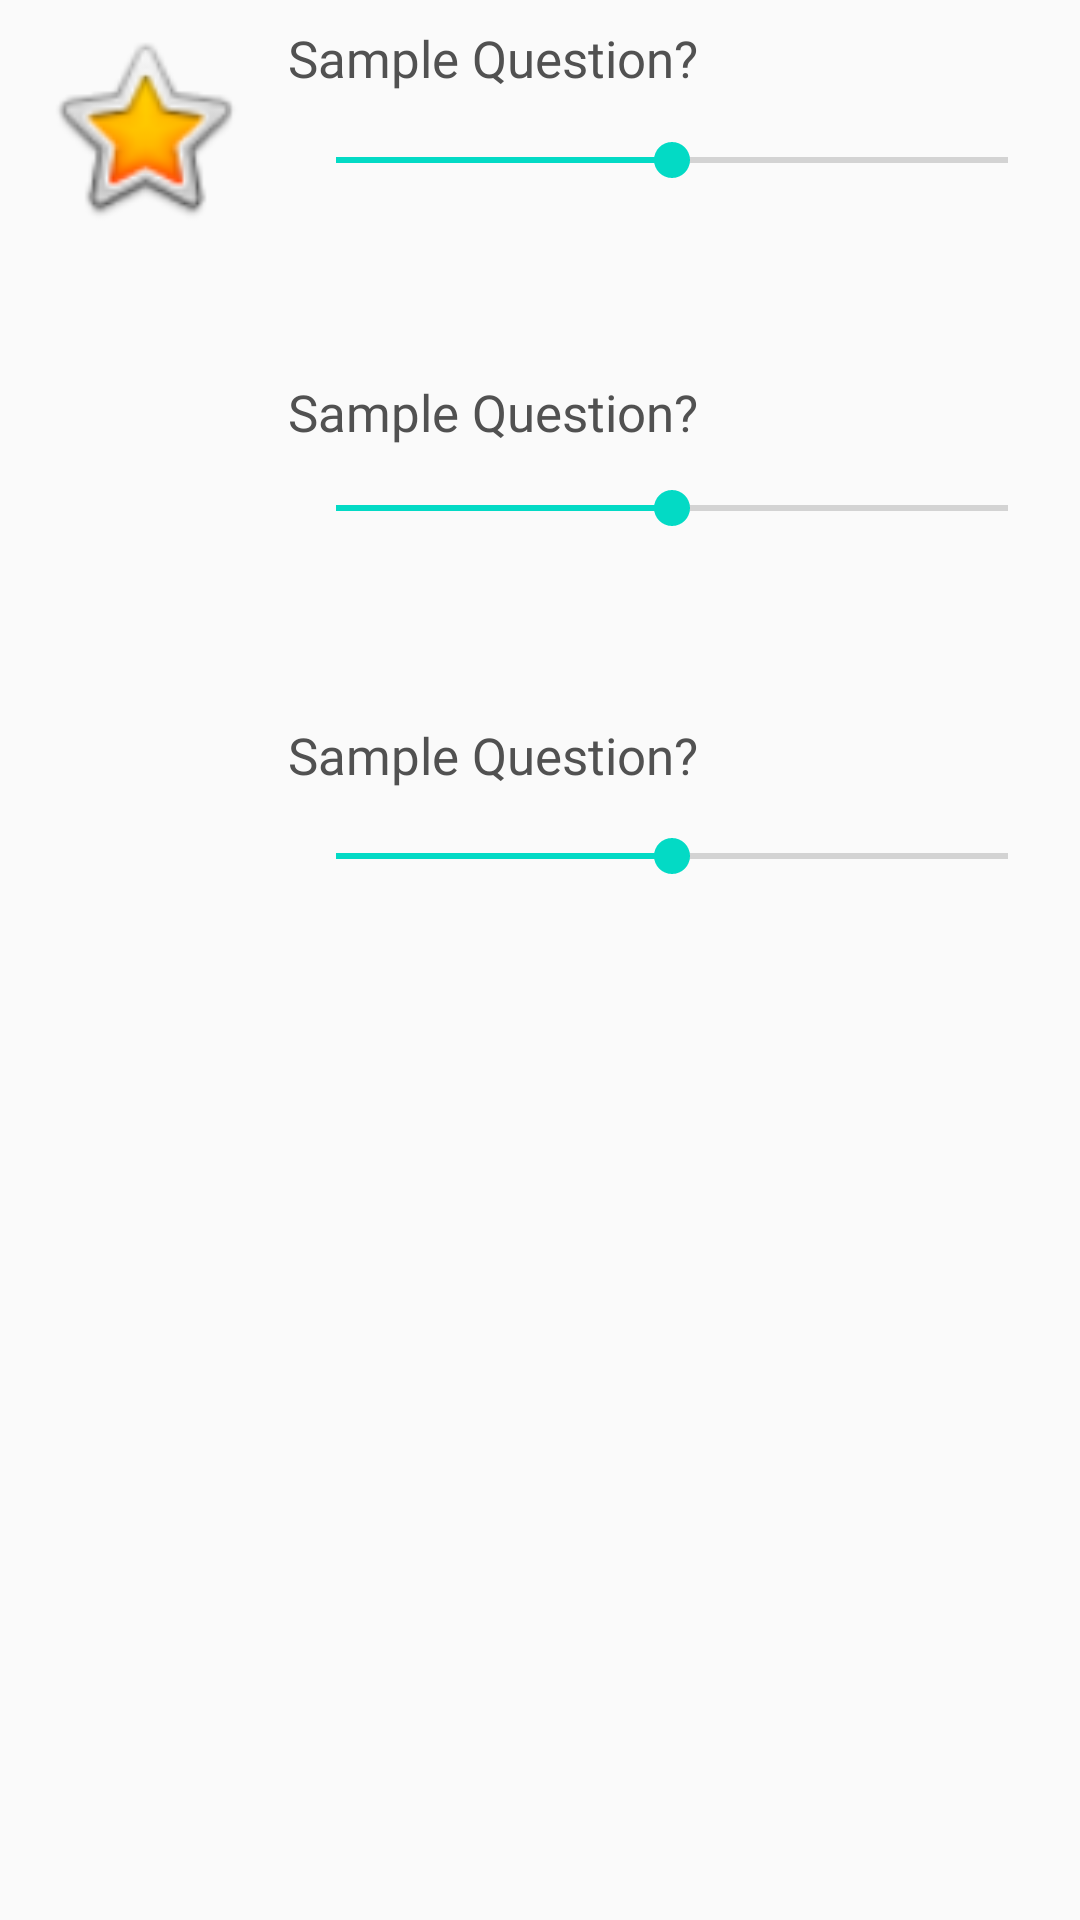

Icon bounding boxes for this 1080px×1920px phone screenshot, format region(x1, y1, x2, y2):
star on: region(59, 45, 232, 213)
